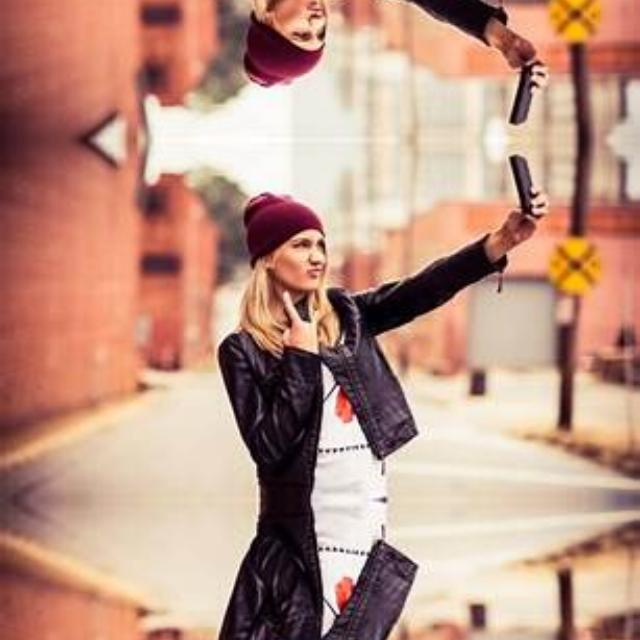person: (228, 182, 490, 500), (228, 500, 490, 640), (228, 0, 490, 96)
